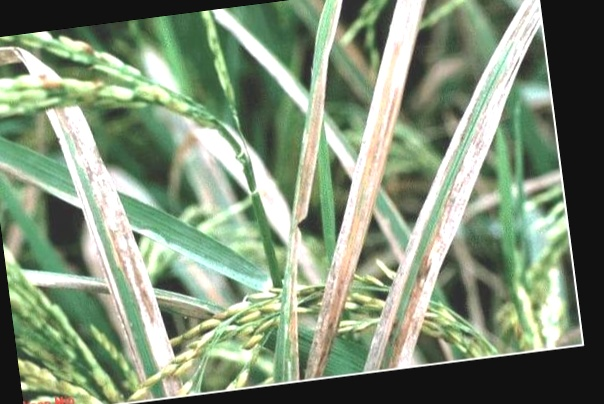Leaf_Blast: (286, 1, 516, 332), (34, 45, 159, 385)
